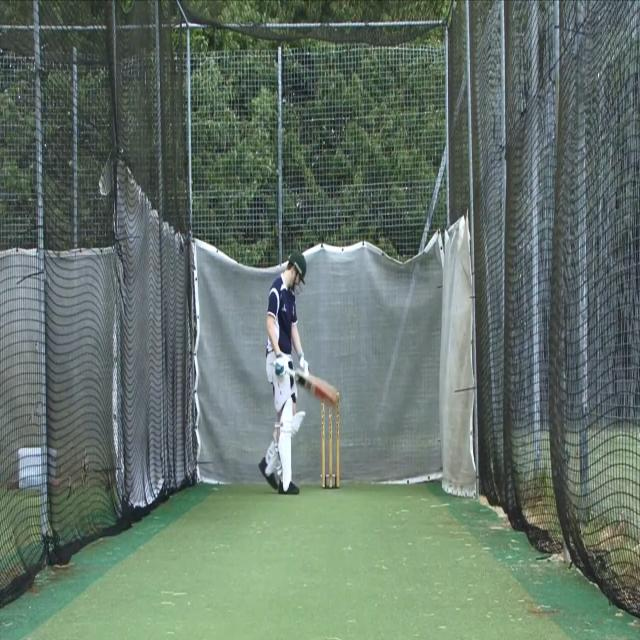batsman: (257, 249, 338, 498)
